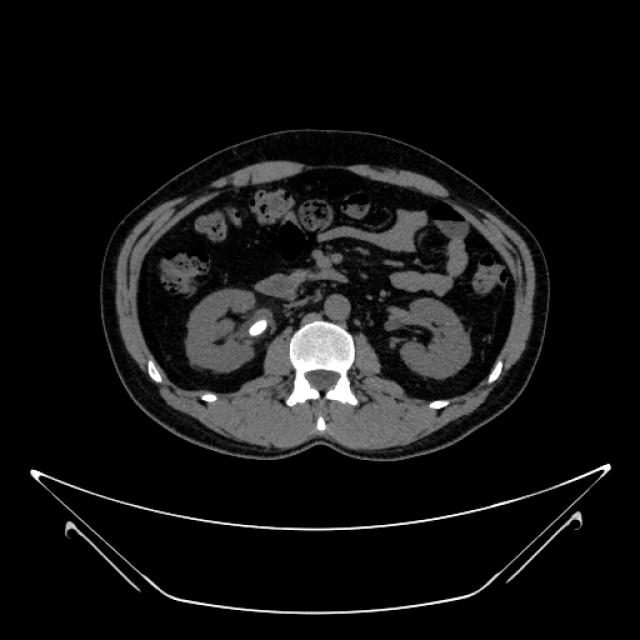kidney: (186, 291, 272, 369), (388, 300, 469, 379)
stone: (250, 320, 266, 335)
